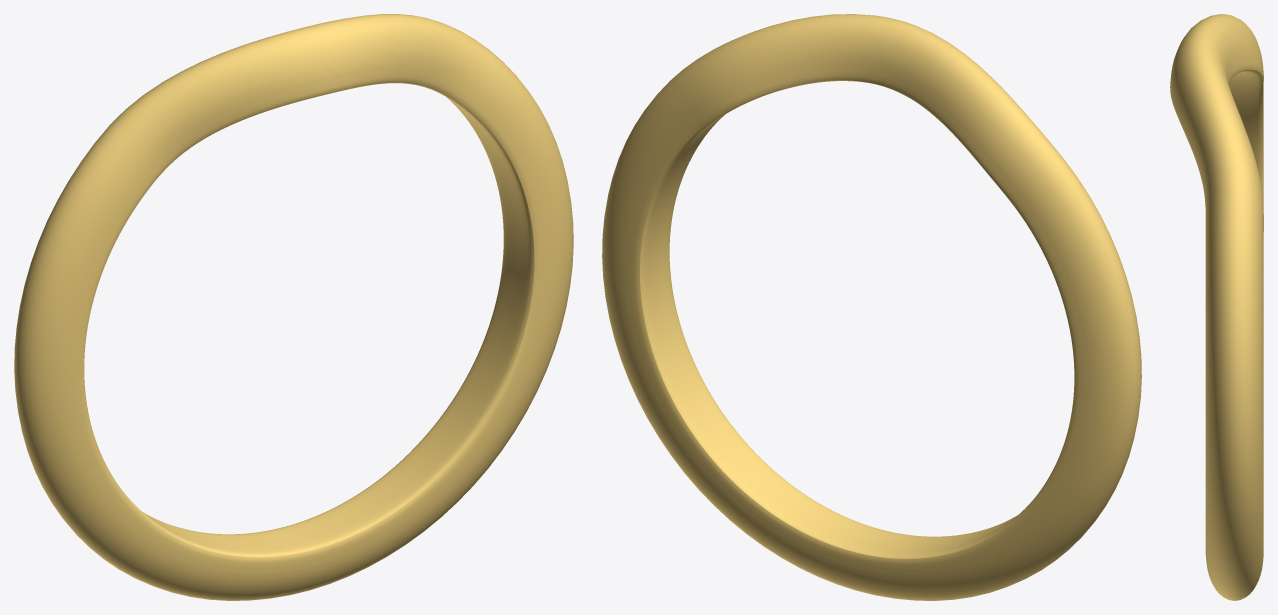
Rendered from Eric_hers_YG_blender.glb.
3 views of the same model, side by side, from view 1: azimuth 30°, elevation 25°; view 2: azimuth 150°, elevation 25°; view 3: azimuth 270°, elevation 25° (orthographic). The views are drawn at different scales.
Parts seen in each view (by area): view 1: Eric hers YG alone for 3d model; view 2: Eric hers YG alone for 3d model; view 3: Eric hers YG alone for 3d model.
Boxes of the visible parts, x1,y1,x2,y2 form: Eric hers YG alone for 3d model: [14, 14, 573, 600]; Eric hers YG alone for 3d model: [602, 14, 1141, 600]; Eric hers YG alone for 3d model: [1170, 14, 1263, 600].
Size of the model in its own units: 19.23 by 19.18 by 3.07.
